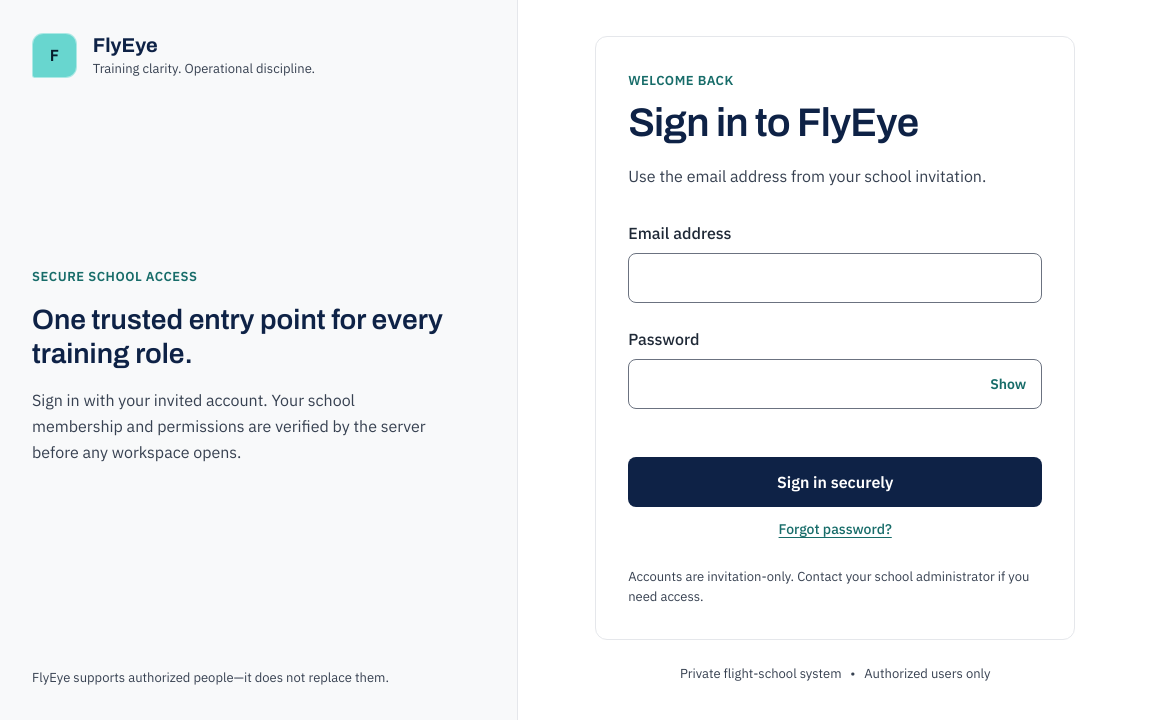
Scenario: FEAT-001 authentication UI › shows a non-enumerating authentication error
Expected: the heading "Sign in to FlyEye" is shown, 628,101 -> 918,144
Type "student@example.test" into the field labelled "Email address" at (835, 278), box 628,253 -> 1042,303
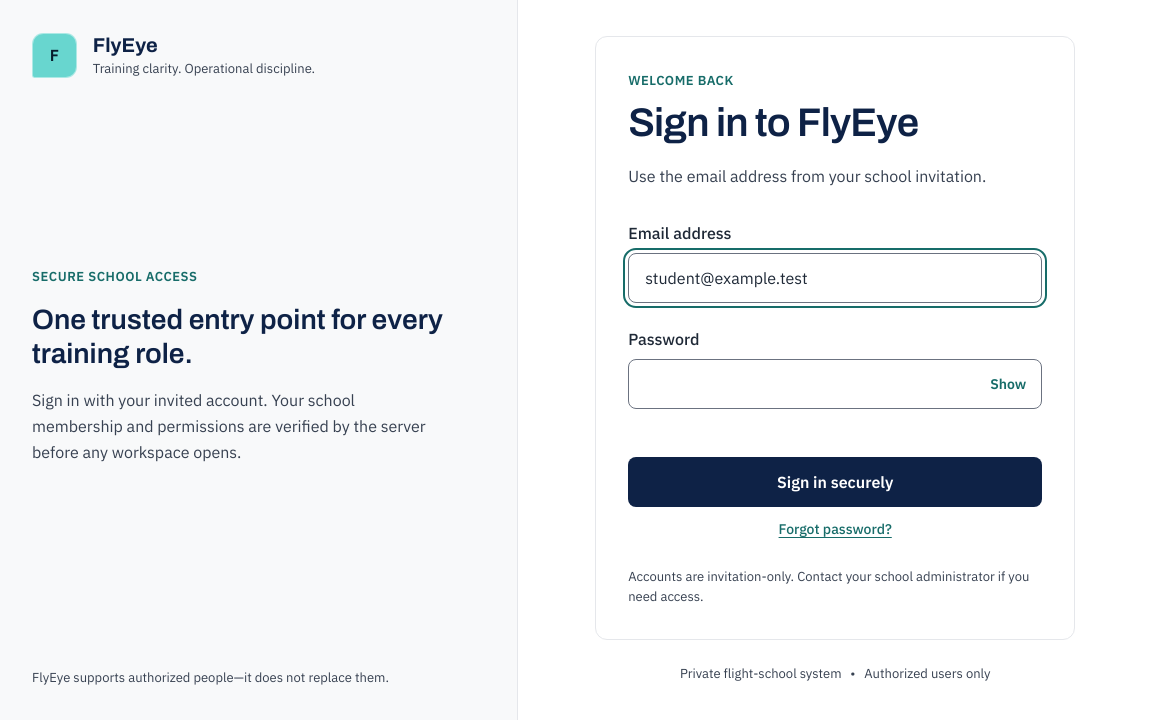
Type "NotARealPassword1!" into the password field labelled "Password" at (835, 384), box 628,359 -> 1042,409
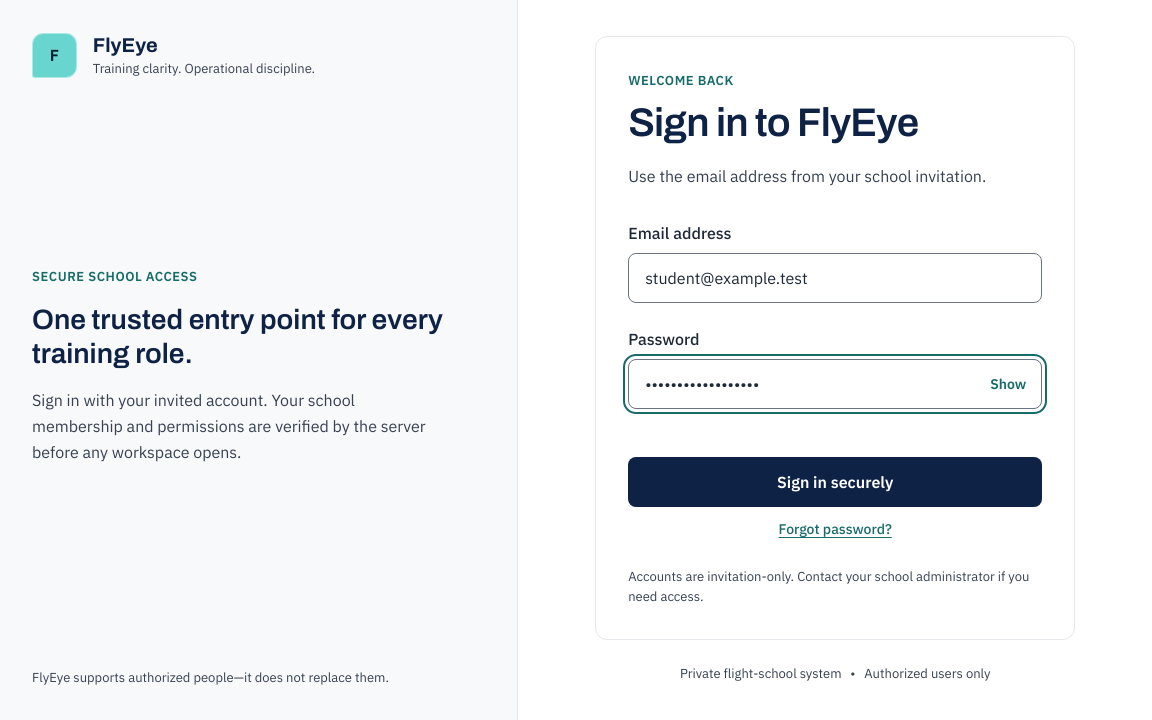
Click the button "Sign in securely" at (835, 482), box 628,457 -> 1042,507
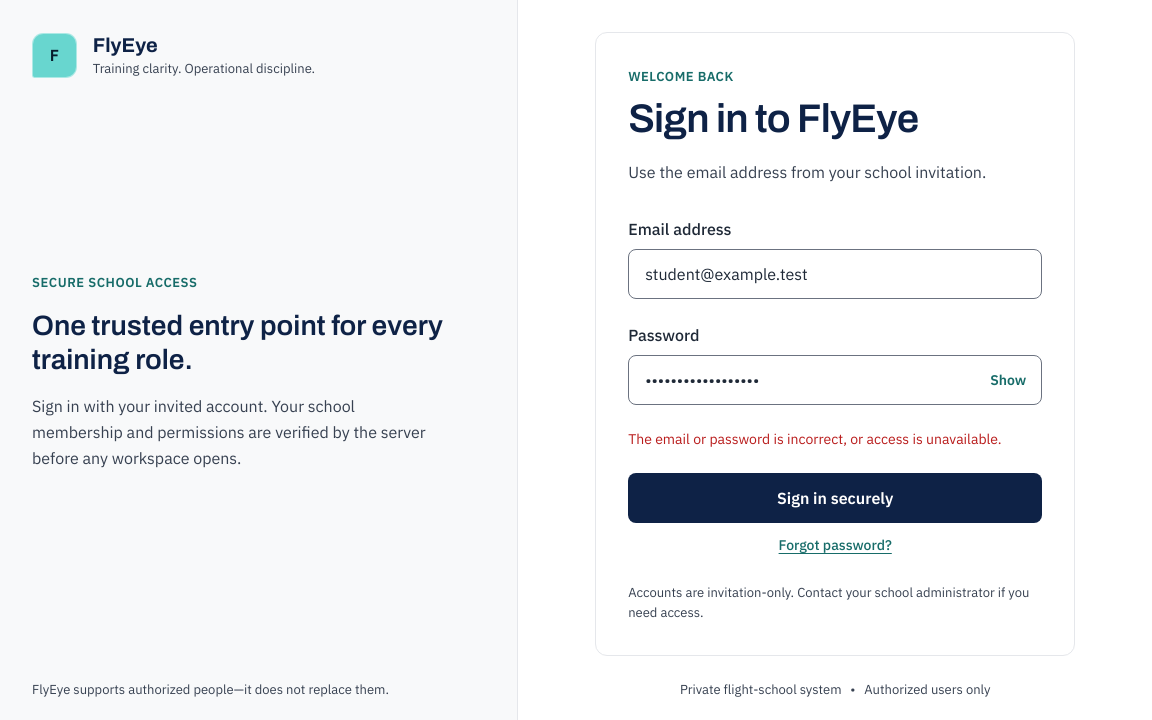
Expected: the text "The email or password is incorrect, or access is unavailable." is shown, 628,429 -> 1042,449
